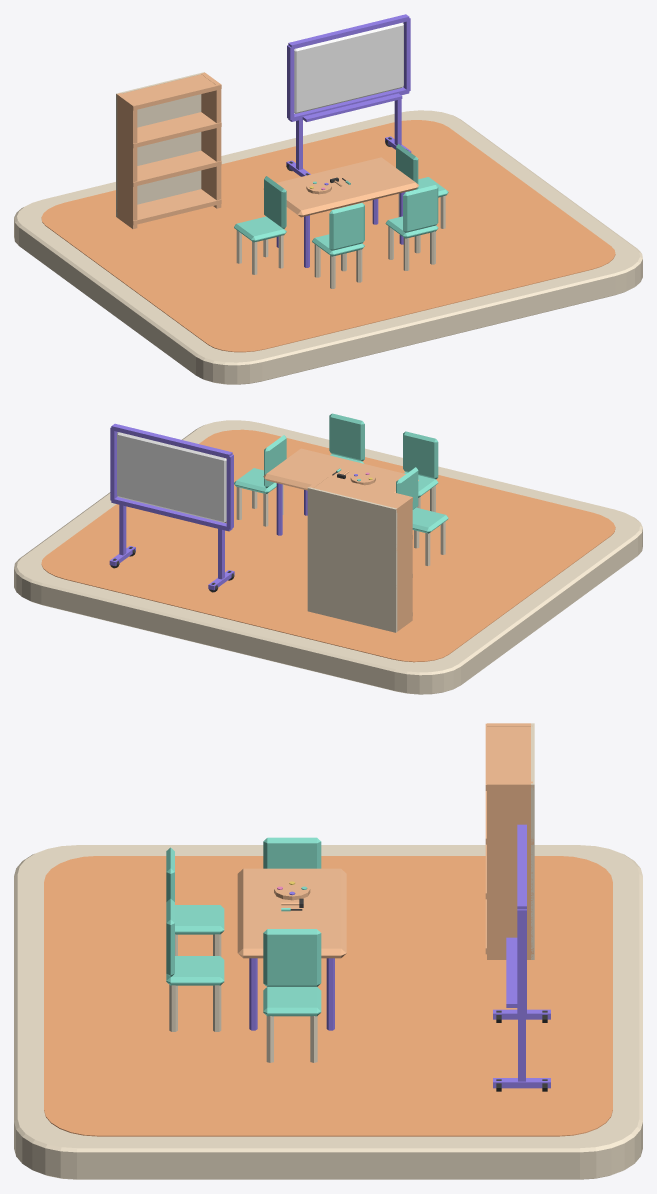
The model's file is room.fbx.
3 views of the same model, one above another, from view 1: azimuth 30°, elevation 25°; view 2: azimuth 150°, elevation 25°; view 3: azimuth 270°, elevation 25° (orthographic). The views are drawn at different scales.
Parts seen in each view (by area): view 1: COM-02 Floor Surface, COM-01 Rounded Base Direct, Writing surface, Rounded table top, Back, Side, Side.001, Shelf.003, Shelf, Shelf.001, Shelf.002, Backrest.002 (+8 smaller); view 2: COM-02 Floor Surface, COM-01 Rounded Base Direct, Back, Writing surface, Rounded table top, Side, Backrest.003, Backrest.002, Shelf.003, Frame rail.001, Frame rail, Backrest.001 (+5 smaller); view 3: COM-02 Floor Surface, COM-01 Rounded Base Direct, Rounded table top, Side.001, Backrest.001, Shelf.003, Backrest, Seat.001, Seat.003, Seat.002, Frame upright.001, Back (+5 smaller).
Part boxes in pixels (x1=…): COM-02 Floor Surface: x1=41, y1=120, x2=615, y2=352; COM-01 Rounded Base Direct: x1=14, y1=110, x2=642, y2=384; Writing surface: x1=294, y1=22, x2=403, y2=113; Rounded table top: x1=263, y1=157, x2=418, y2=217; Back: x1=116, y1=72, x2=204, y2=217; Side: x1=117, y1=93, x2=137, y2=228; Side.001: x1=201, y1=72, x2=221, y2=208; Shelf.003: x1=117, y1=74, x2=221, y2=110; Shelf: x1=116, y1=189, x2=221, y2=225; Shelf.001: x1=117, y1=150, x2=221, y2=186; Shelf.002: x1=117, y1=112, x2=221, y2=148; Backrest.002: x1=329, y1=203, x2=364, y2=250; COM-02 Floor Surface: x1=41, y1=429, x2=615, y2=662; COM-01 Rounded Base Direct: x1=14, y1=420, x2=642, y2=694; Back: x1=307, y1=487, x2=397, y2=632; Writing surface: x1=117, y1=432, x2=226, y2=522; Rounded table top: x1=263, y1=448, x2=418, y2=492; Side: x1=393, y1=496, x2=412, y2=631; Backrest.003: x1=329, y1=413, x2=364, y2=461; Backrest.002: x1=403, y1=431, x2=438, y2=479; Shelf.003: x1=314, y1=475, x2=412, y2=512; Frame rail.001: x1=111, y1=423, x2=232, y2=458; Frame rail: x1=111, y1=497, x2=232, y2=531; Backrest.001: x1=264, y1=435, x2=286, y2=488; COM-02 Floor Surface: x1=44, y1=856, x2=612, y2=1136; COM-01 Rounded Base Direct: x1=14, y1=845, x2=642, y2=1179; Rounded table top: x1=237, y1=868, x2=346, y2=958; Side.001: x1=487, y1=781, x2=532, y2=959; Backrest.001: x1=263, y1=929, x2=321, y2=986; Shelf.003: x1=485, y1=723, x2=533, y2=790; Backrest: x1=263, y1=837, x2=321, y2=868; Seat.001: x1=263, y1=987, x2=321, y2=1016; Seat.003: x1=166, y1=956, x2=224, y2=985; Seat.002: x1=175, y1=905, x2=224, y2=934; Frame upright.001: x1=517, y1=909, x2=526, y2=1013; Back: x1=531, y1=723, x2=534, y2=959.
Size of the model in its own units: 600 by 204 by 520.
